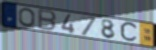4: (60, 14, 76, 35)
7: (80, 15, 97, 37)
8: (100, 19, 117, 40)
B: (37, 8, 58, 33)
C: (119, 21, 139, 43)
O: (18, 8, 37, 29)
